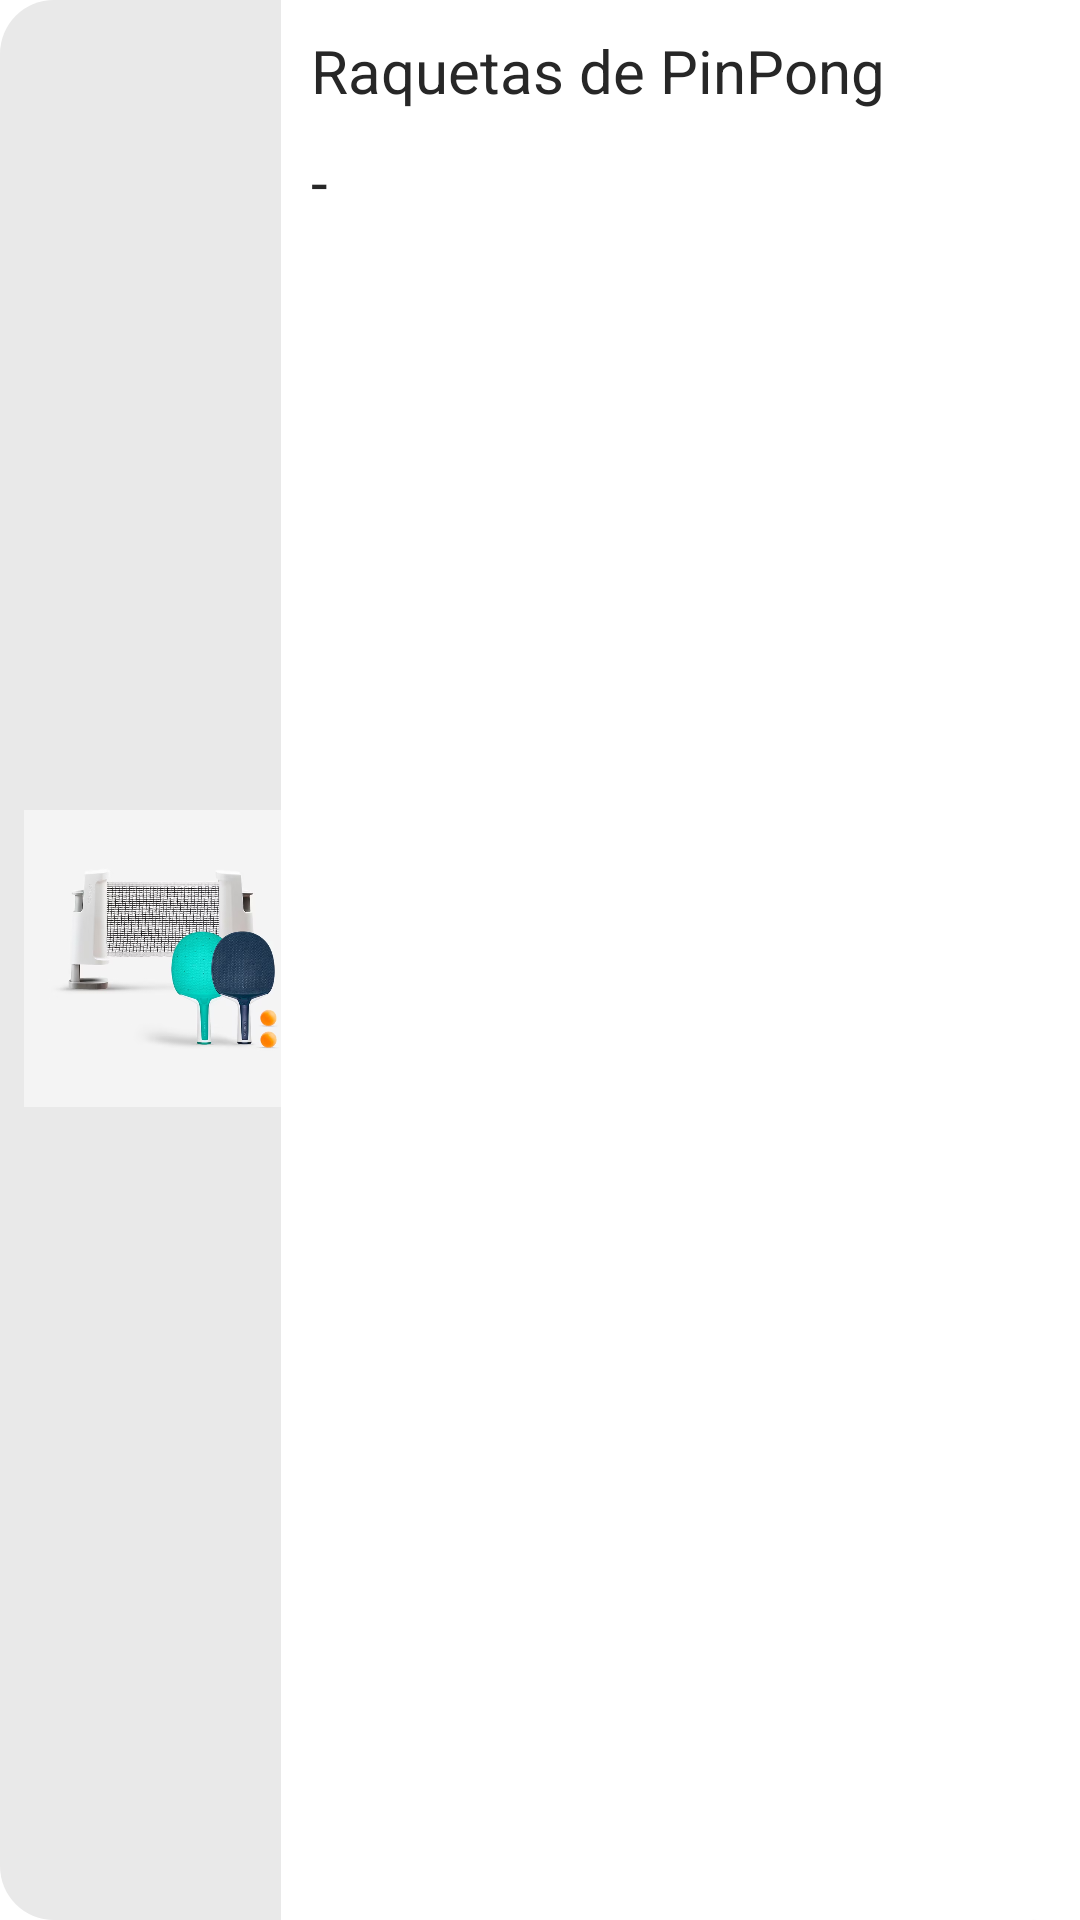

Icons on this 1080 × 1920 Android screen, each with its box as box=[x1, y1, x2, y2]:
pinpong: box=[24, 795, 321, 1122]
